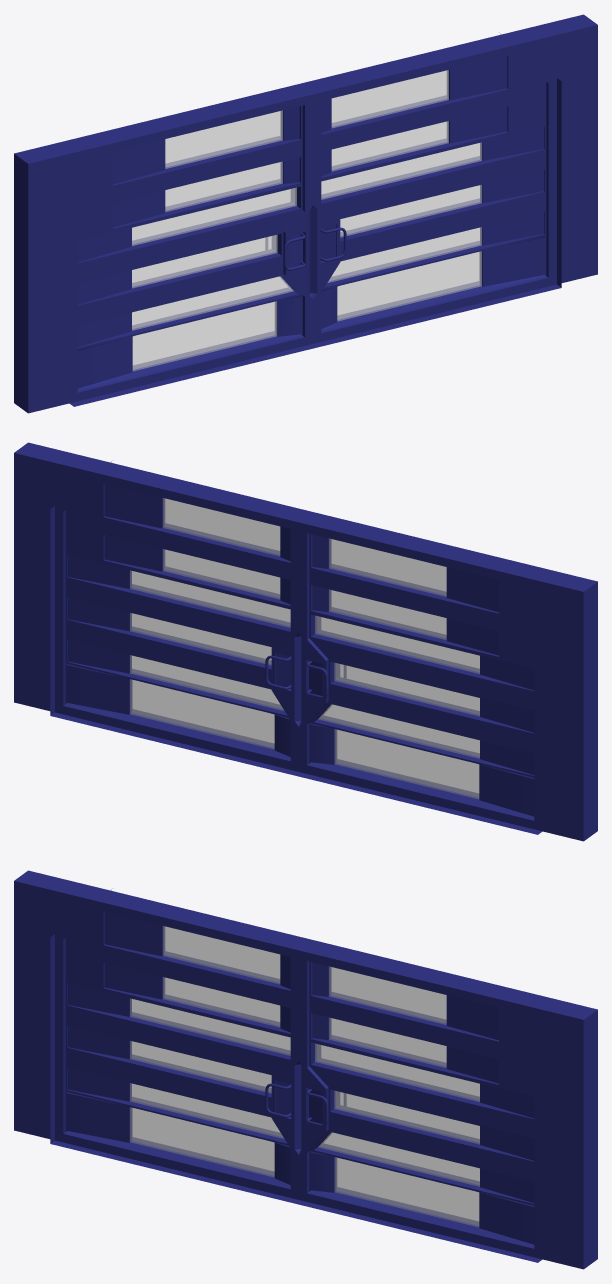
File: Wall_A_4x4m_Separator_Ex_Gate.FBX
The picture shows the model from 3 angles, top to bottom: view 1: azimuth 30°, elevation 25°; view 2: azimuth 150°, elevation 25°; view 3: azimuth 330°, elevation 25°; orthographic projection.
Visible parts, largest first — view 1: Wall_A_Gate_L, Wall_A_Gate_R, Wall_A_4x4m_Separator_Ex_Gate; view 2: Wall_A_Gate_L, Wall_A_Gate_R, Wall_A_4x4m_Separator_Ex_Gate; view 3: Wall_A_Gate_R, Wall_A_Gate_L, Wall_A_4x4m_Separator_Ex_Gate.
Part boxes in pixels (x1,y1,x2,y2): Wall_A_Gate_L: (14,84,312,413); Wall_A_Gate_R: (299,14,597,343); Wall_A_4x4m_Separator_Ex_Gate: (69,33,561,406); Wall_A_Gate_L: (299,512,597,841); Wall_A_Gate_R: (14,442,312,771); Wall_A_4x4m_Separator_Ex_Gate: (50,461,542,834); Wall_A_Gate_R: (299,940,597,1269); Wall_A_Gate_L: (14,870,312,1199); Wall_A_4x4m_Separator_Ex_Gate: (50,889,542,1262).
Bounding box in the file's own units: 694 × 290 × 50.
